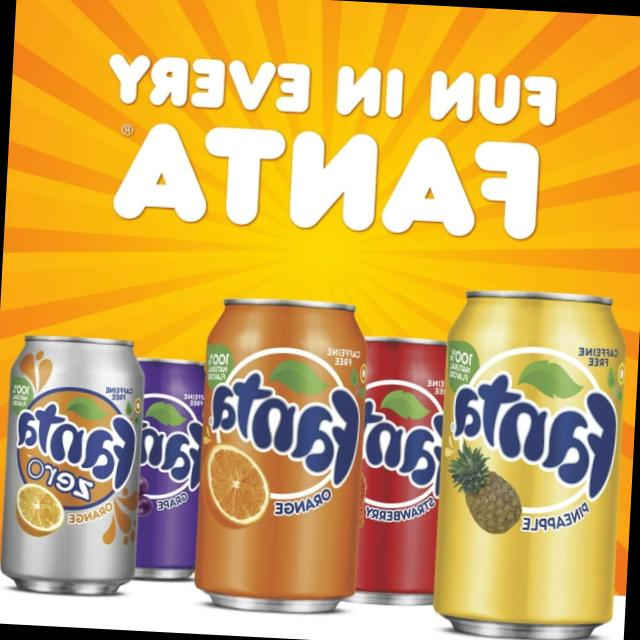fanta: (190, 282, 370, 619)
